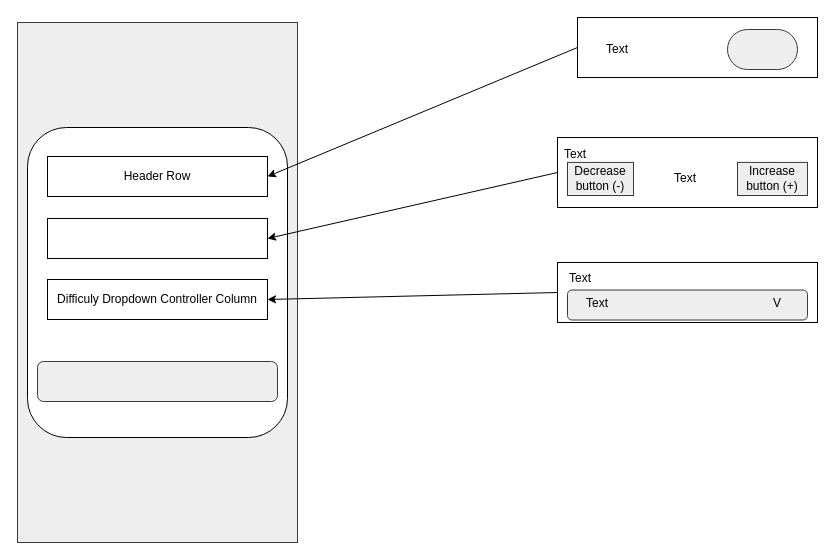
The diagram is 835 pixels wide and 560 high, and some of its shapes have lost their labels. The shapes that lost their labels are listed below. From the top down, each one's box as (x1, y1, x2, y2) in pixels, then its label:
(726, 28, 798, 70): close button
(46, 218, 268, 258): Quiz Number Controller Column
(36, 360, 278, 402): Start Quiz Button
